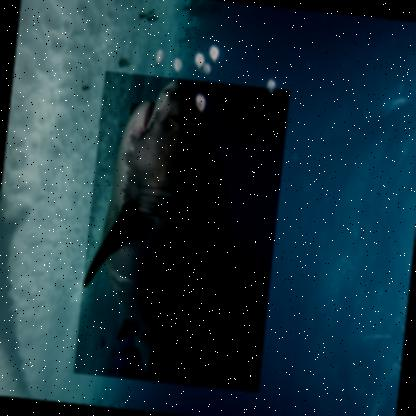tiger-shark: (72, 70, 290, 392)
